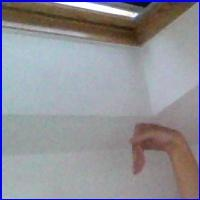del: (124, 122, 185, 179)
